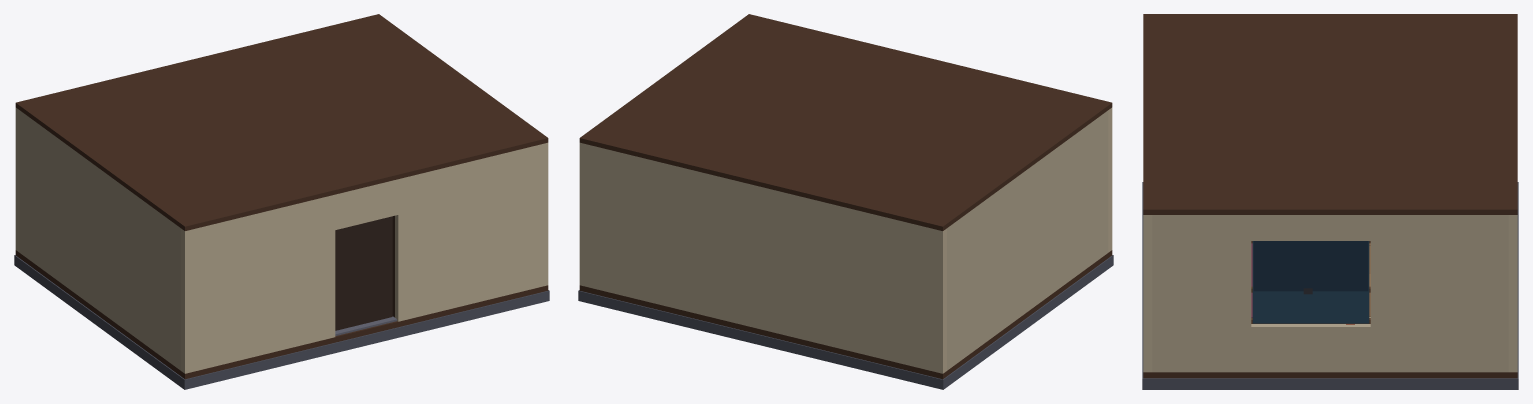
Rendered from 万象酒馆-客房A.glb.
3 views of the same model, side by side, from view 1: azimuth 30°, elevation 25°; view 2: azimuth 150°, elevation 25°; view 3: azimuth 270°, elevation 25° (orthographic). The views are drawn at different scales.
Visible parts, largest first — view 1: Guest_Room_Voxels; view 2: Guest_Room_Voxels; view 3: Guest_Room_Voxels.
Part boxes in pixels (<box>): Guest_Room_Voxels: <box>14,14,549,389</box>; Guest_Room_Voxels: <box>578,14,1113,389</box>; Guest_Room_Voxels: <box>1142,14,1518,389</box>.
Bounding box in the file's own units: 8.36 × 3.56 × 6.76.
